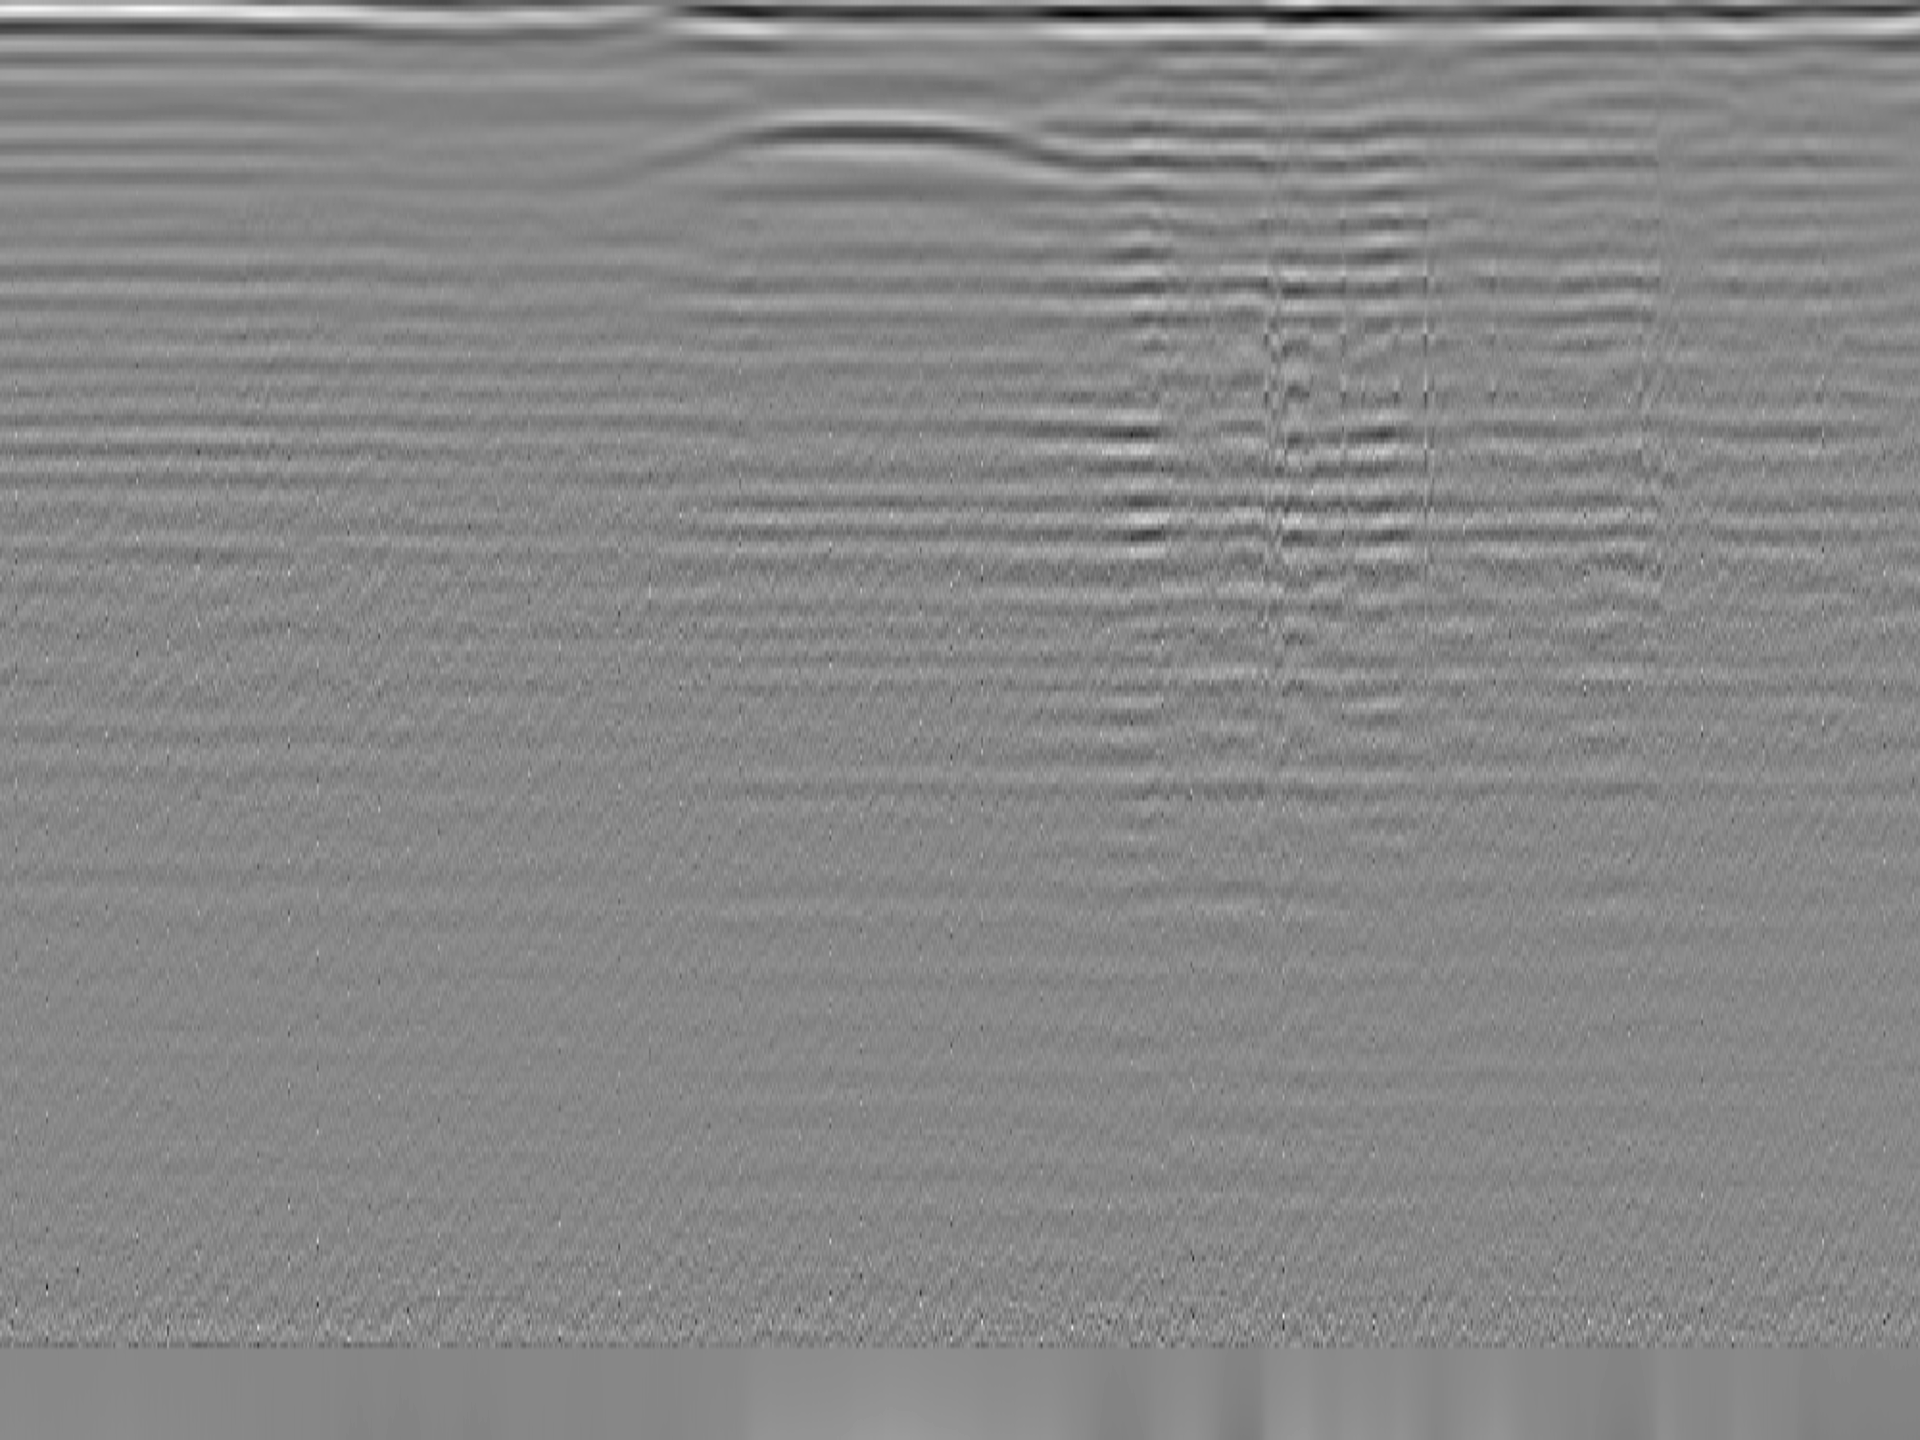Tunnel: (621, 109, 1137, 178)
